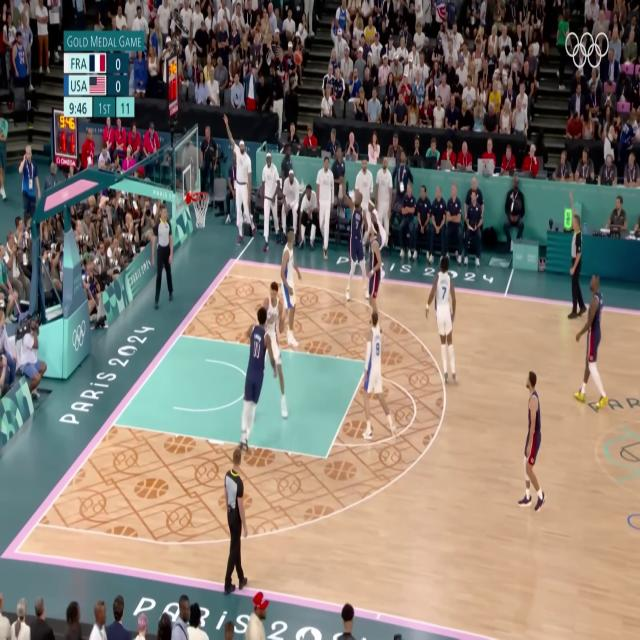player: (232, 300, 271, 479), (420, 260, 462, 390), (575, 271, 611, 418), (365, 310, 396, 462), (258, 280, 289, 422), (338, 169, 366, 310), (521, 370, 547, 514), (274, 228, 303, 354), (363, 220, 386, 324), (366, 188, 386, 256)
